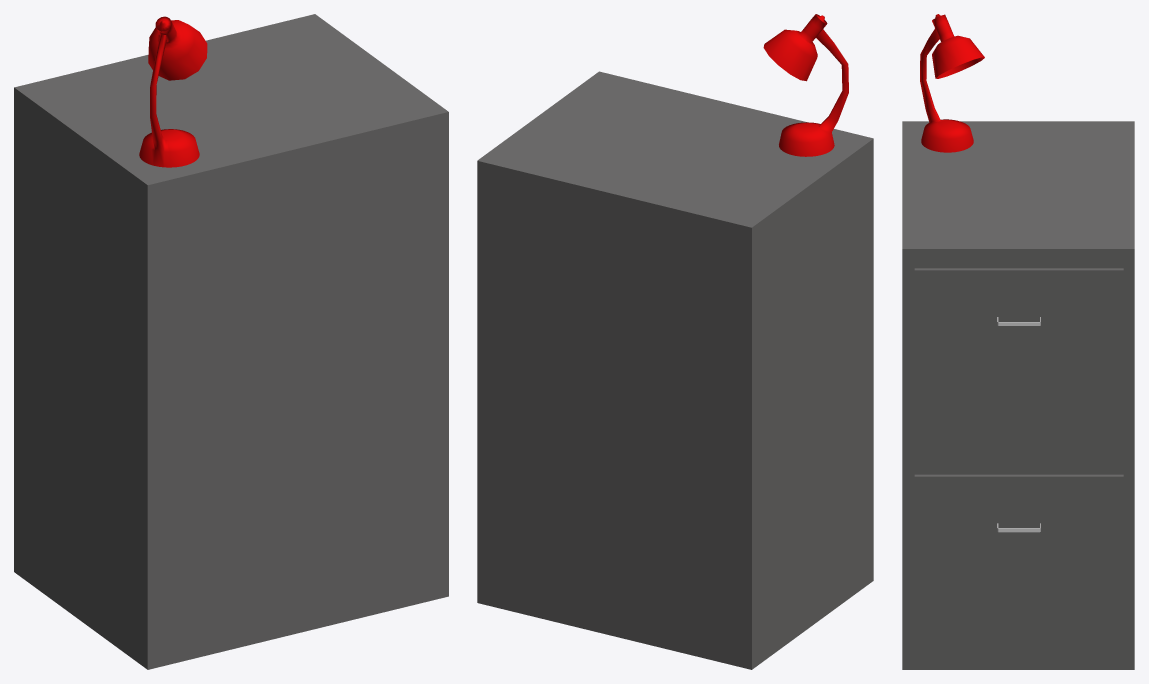
Rendered from filingCabinet.gltf.
The picture shows the model from 3 angles, left to right: view 1: azimuth 30°, elevation 25°; view 2: azimuth 150°, elevation 25°; view 3: azimuth 270°, elevation 25°; orthographic projection. The views are drawn at different scales.
Visible parts, largest first — view 1: body, lamp; view 2: body, lamp; view 3: body, drawer bot, drawer top, lamp.
Boxes of the visible parts, left/top/right/bottom form: body: left=14, top=14, right=448, bottom=669; lamp: left=139, top=16, right=207, bottom=167; body: left=477, top=71, right=873, bottom=669; lamp: left=763, top=14, right=848, bottom=156; body: left=902, top=121, right=1134, bottom=669; drawer bot: left=914, top=474, right=1123, bottom=653; drawer top: left=914, top=268, right=1123, bottom=446; lamp: left=920, top=14, right=984, bottom=152.
Size of the model in its own units: 2.75 by 5.17 by 2.
